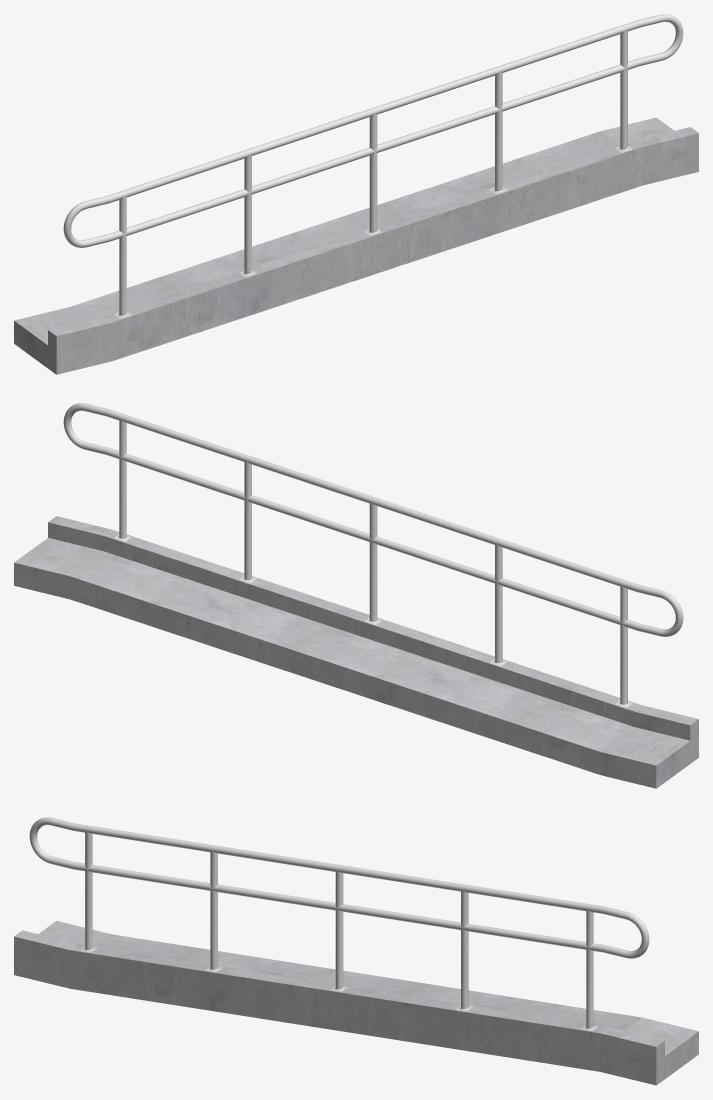
The model's file is ramp-handrail.glb.
3 views of the same model, one above another, from view 1: azimuth 30°, elevation 25°; view 2: azimuth 150°, elevation 25°; view 3: azimuth 330°, elevation 25° (orthographic).
Parts seen in each view (by area): view 1: 坡道, 扶手; view 2: 坡道, 扶手; view 3: 坡道, 扶手.
Boxes of the visible parts, x1,y1,x2,y2 form: 坡道: (14, 117, 698, 374); 扶手: (63, 14, 683, 318); 坡道: (14, 516, 698, 788); 扶手: (63, 403, 683, 707); 坡道: (14, 921, 698, 1085); 扶手: (29, 817, 649, 1031).
Bounding box in the file's own units: 4.36 × 1.35 × 0.5001.
Materials: 3 (1 with a texture image).
